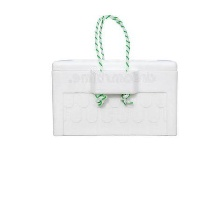foam_box: (44, 10, 185, 142)
